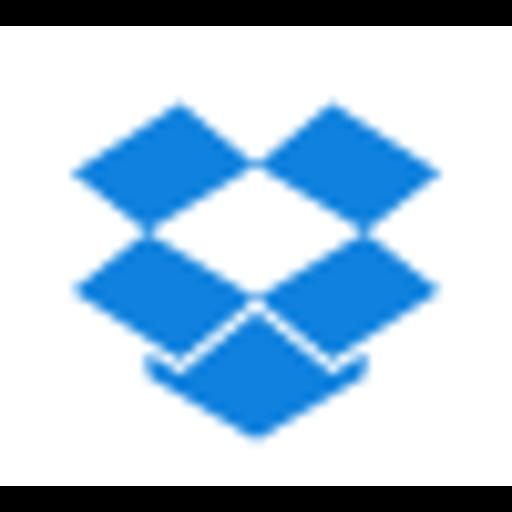Dropbox: (0, 26, 512, 486)
